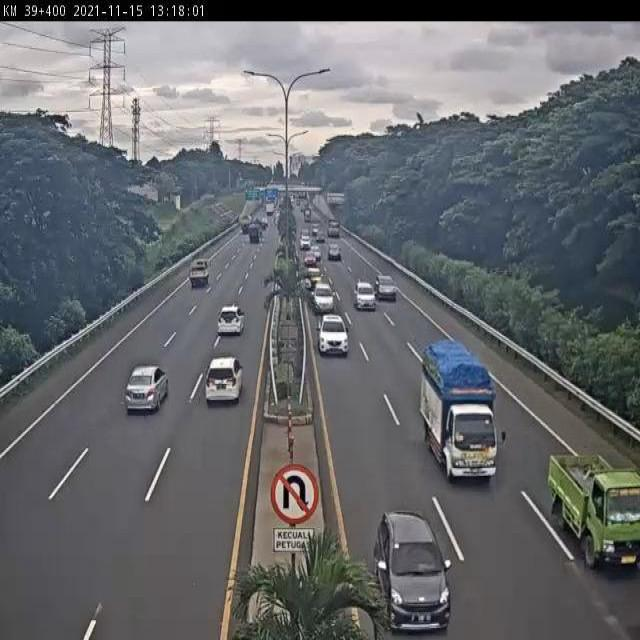car: (373, 511, 452, 632), (124, 361, 170, 415), (202, 354, 244, 406), (319, 314, 350, 358), (215, 304, 246, 337), (310, 281, 336, 316), (353, 279, 376, 309), (375, 273, 398, 300)
truck-m-: (420, 341, 500, 484)
truck-s-: (546, 448, 640, 571), (186, 256, 210, 289)
